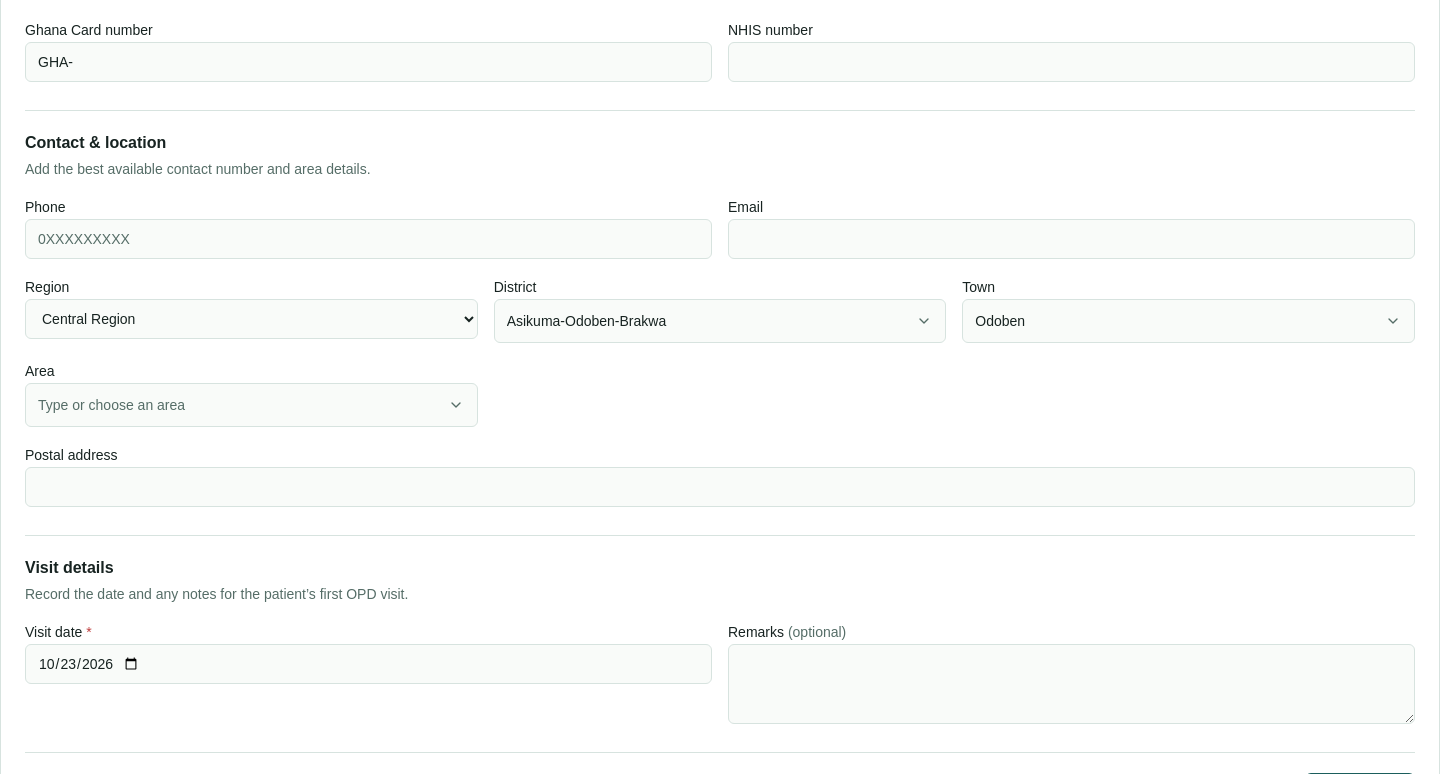
Test: PatientForm defaults and guidance › defaults new patients to Central Region, Asikuma-Odoben-Brakwa, and Odoben
(page scrolled)
Expected: the dropdown labelled "Region" shows "Central Region", [25, 299, 478, 339]
Expected: the dropdown labelled "District" holds "Asikuma-Odoben-Brakwa", [494, 299, 946, 343]
Click the button named "Show area suggestions" at (456, 405), box [434, 383, 478, 427]
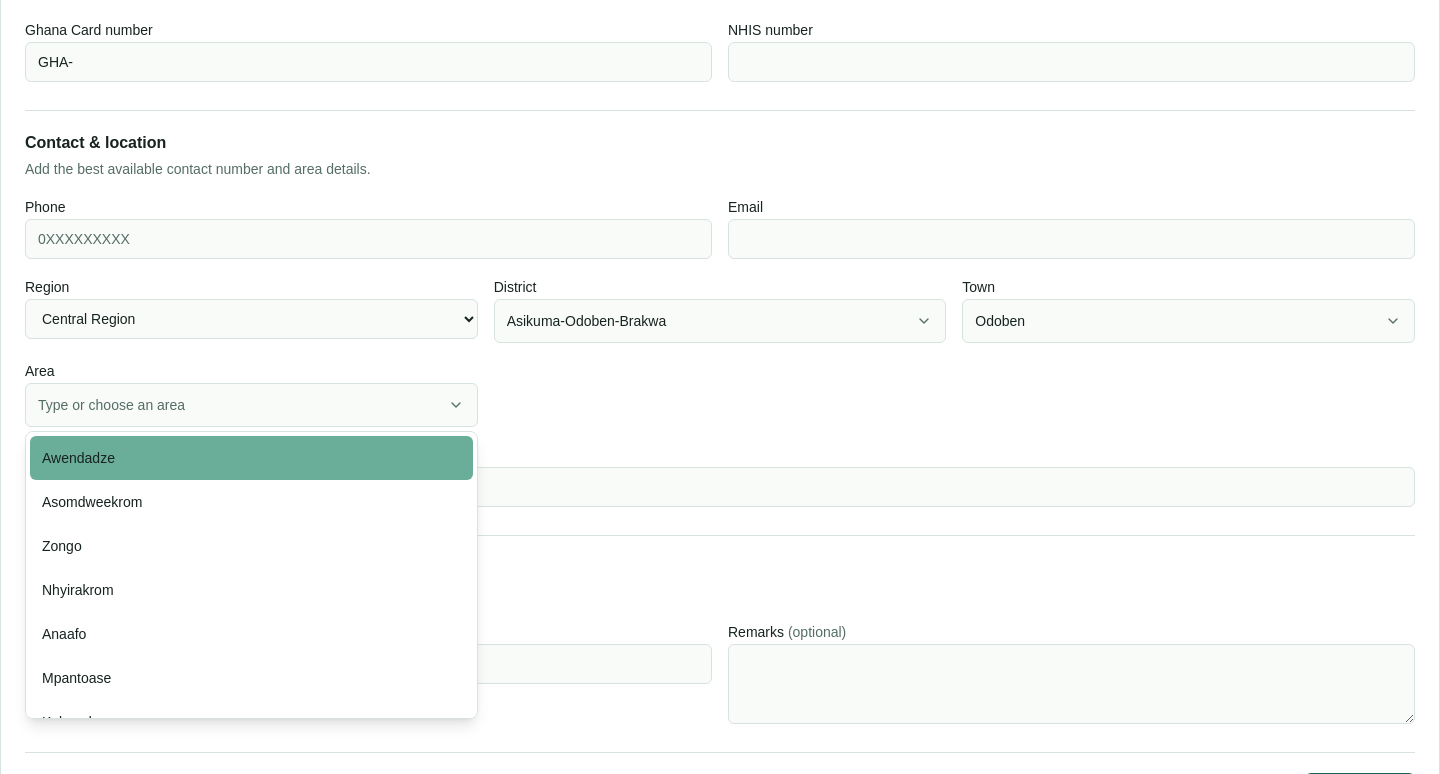
Now the option "Awendadze" is shown
Click the option "Awendadze" at (78, 458), box [30, 436, 473, 480]
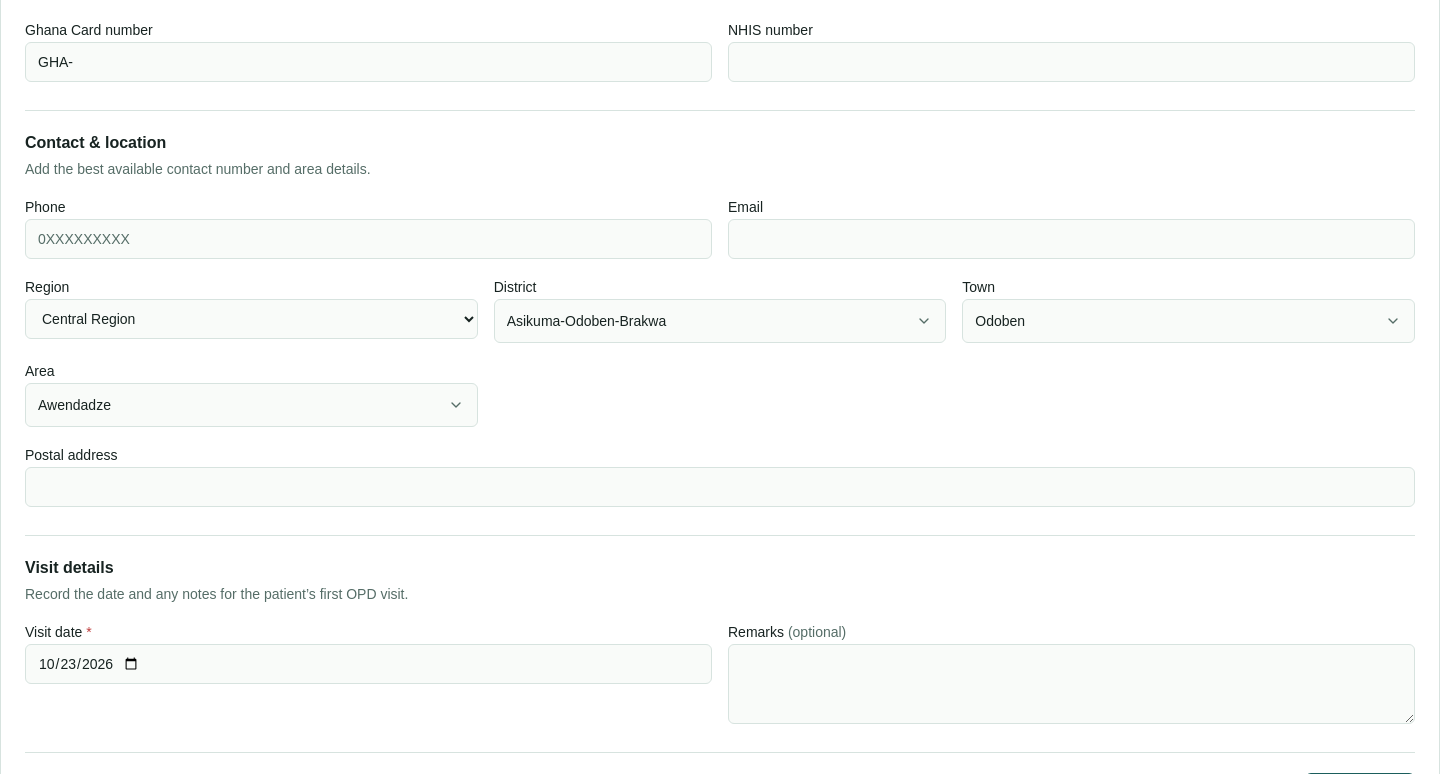
Now the dropdown labelled "Area" holds "Awendadze", box [25, 383, 478, 427]
